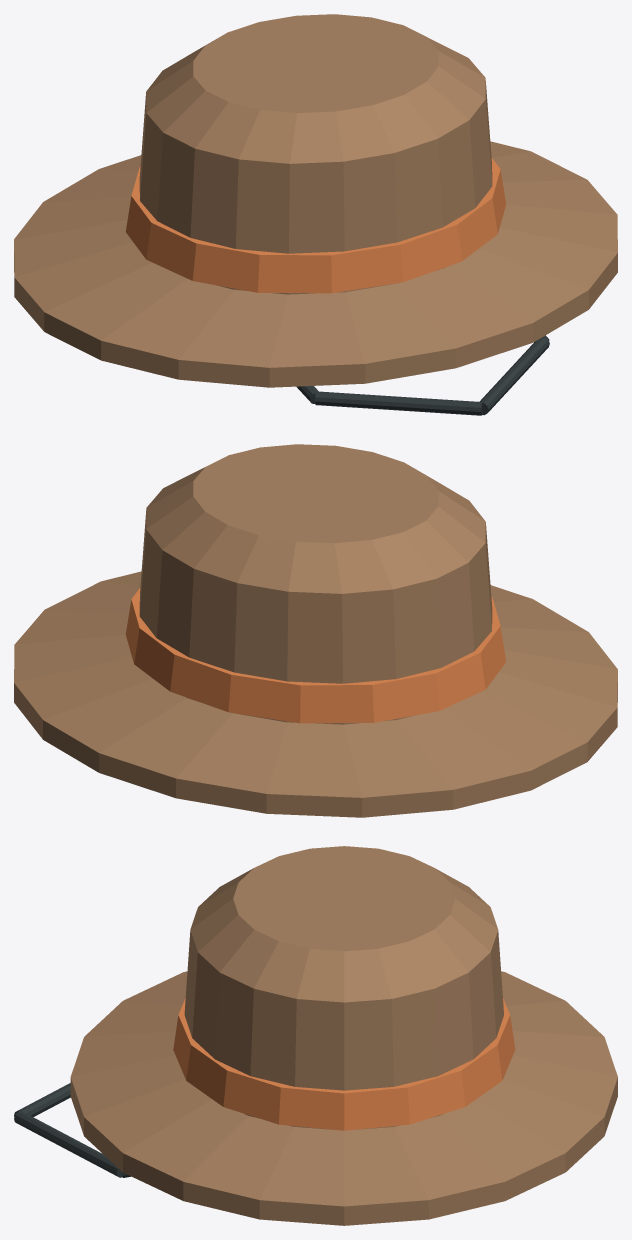
The model's file is harbor-and-tackle-fishing-hat-05d4dad9__19577.glb.
The picture shows the model from 3 angles, top to bottom: view 1: azimuth 30°, elevation 25°; view 2: azimuth 150°, elevation 25°; view 3: azimuth 270°, elevation 25°; orthographic projection. The views are drawn at different scales.
Visible parts, largest first — view 1: cedar, orange, rubber; view 2: cedar, orange; view 3: cedar, orange, rubber.
Boxes of the visible parts, x1,y1,x2,y2 form: cedar: (14,14,617,387); orange: (125,158,506,293); rubber: (296,335,549,415); cedar: (14,444,617,817); orange: (125,588,506,723); cedar: (70,846,617,1225); orange: (173,998,515,1130); rubber: (14,1083,130,1177).
Size of the model in its own units: 0.7168 by 0.2899 by 0.7062.
